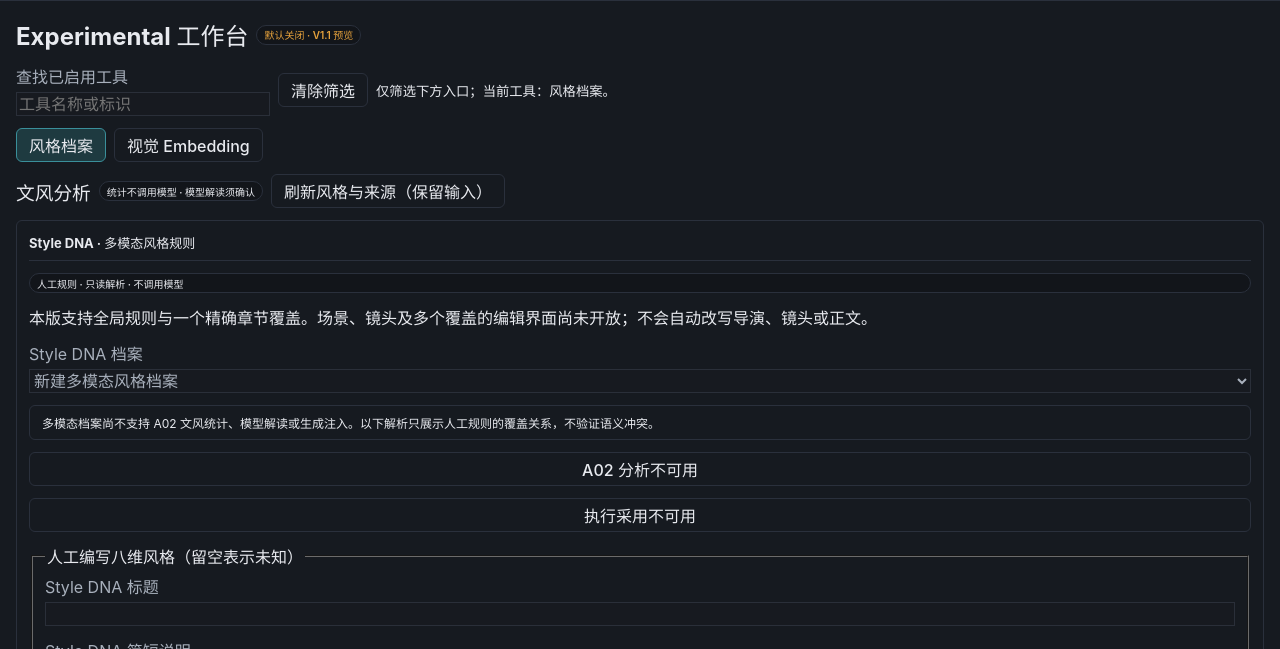
Test: tab switching asks, cancellation preserves fields, filtering never asks
The image size is (1280, 649).
Type "PRIVATE_LOCAL" into the field labelled "Style DNA 标题".
click(640, 614); type("PRIVATE_LOCAL")  # box [45,602,1235,626]
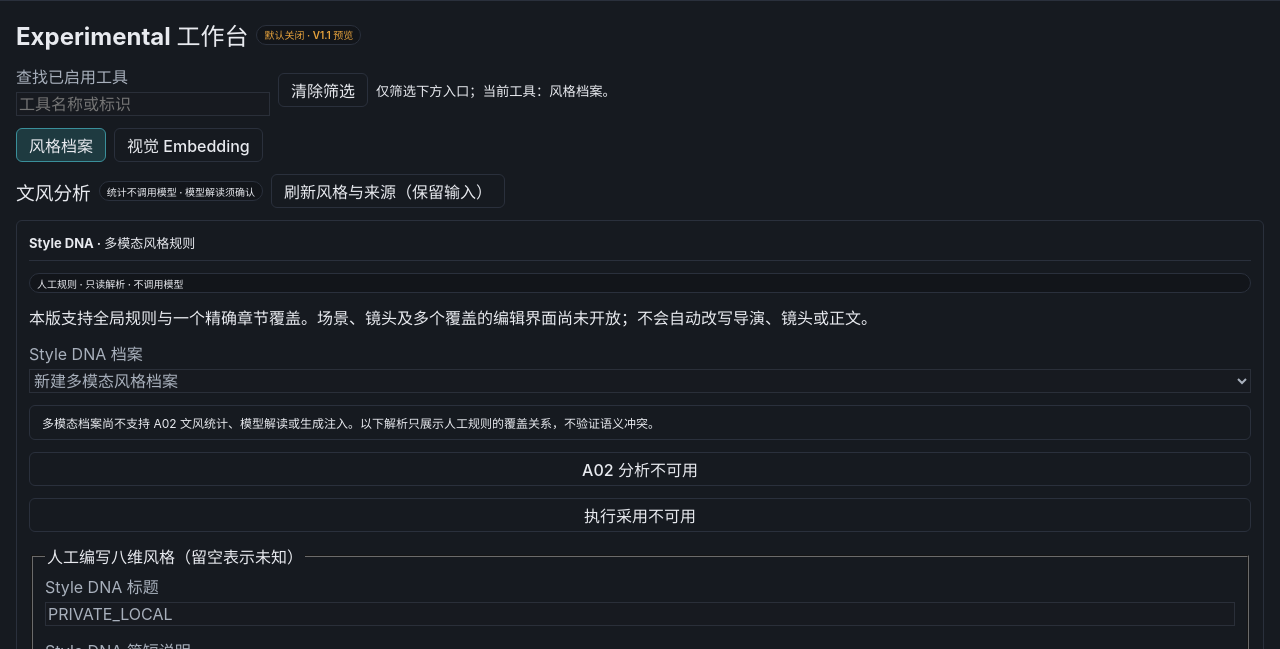
Type "Embedding" into the search field.
click(143, 104); type("Embedding")  # box [16,92,270,116]
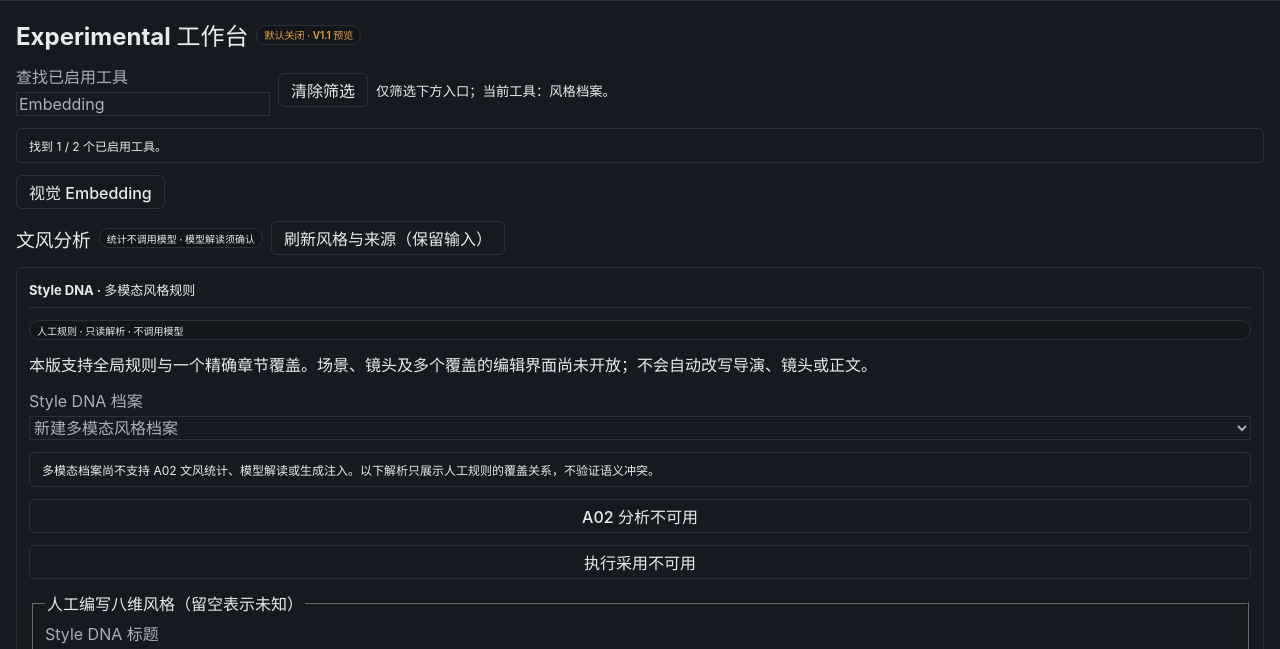
Click the button "视觉 Embedding".
click(90, 192)  # box [16,175,165,209]
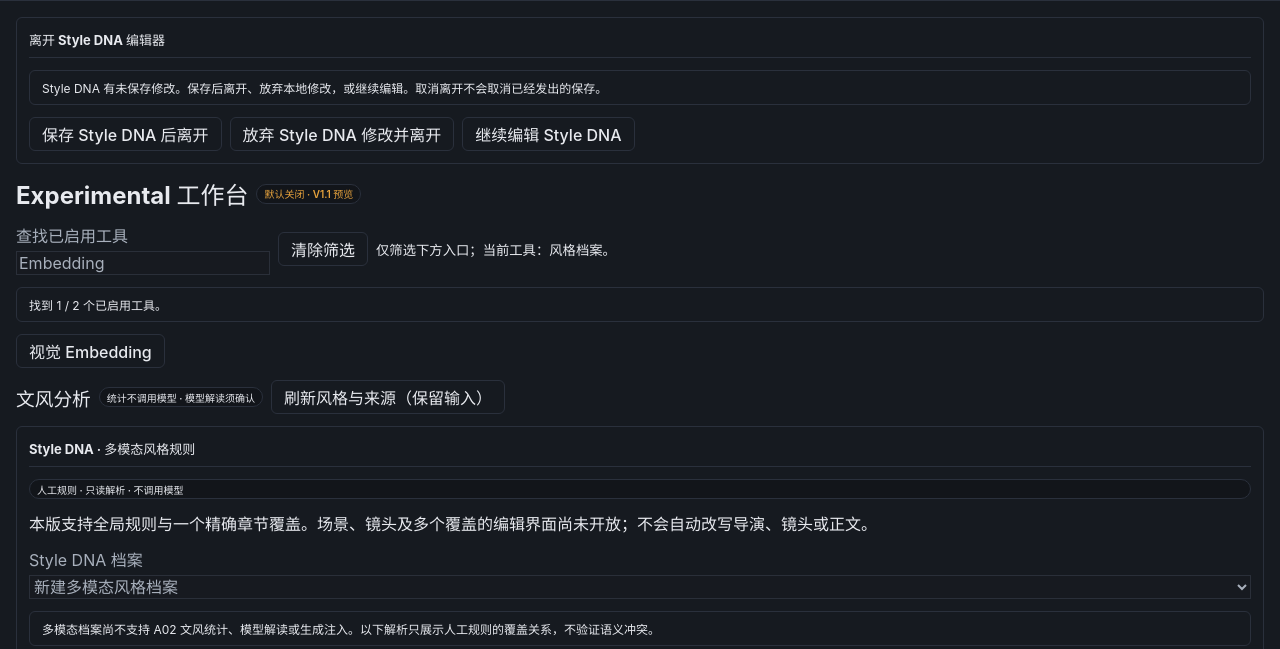
Click the button "继续编辑 Style DNA".
click(548, 134)  # box [462,117,634,151]
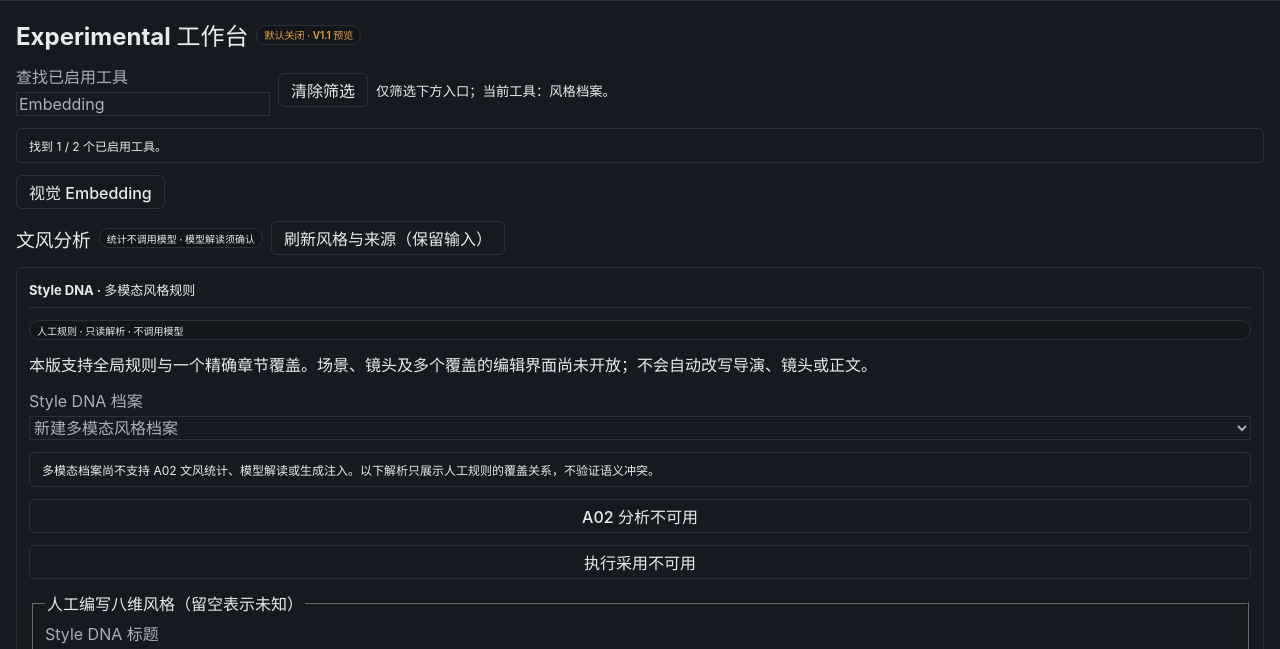
Click the button "视觉 Embedding".
click(90, 192)  # box [16,175,165,209]
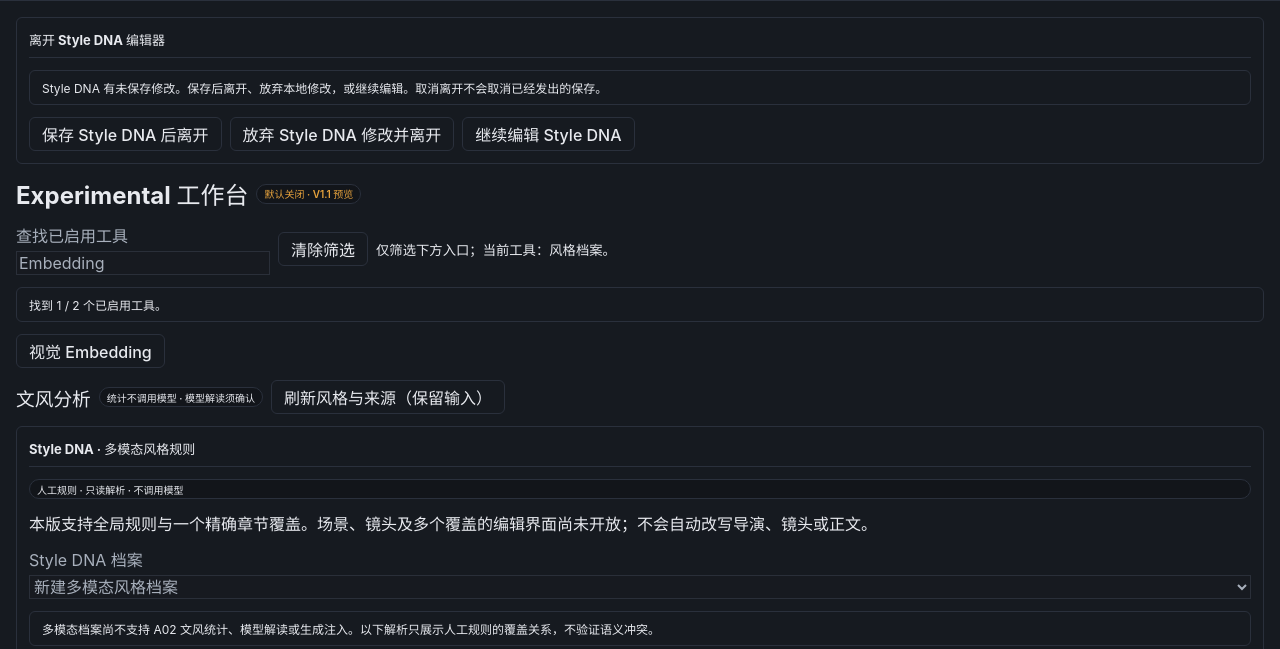
Click the button "放弃 Style DNA 修改并离开".
click(342, 134)  # box [230,117,454,151]
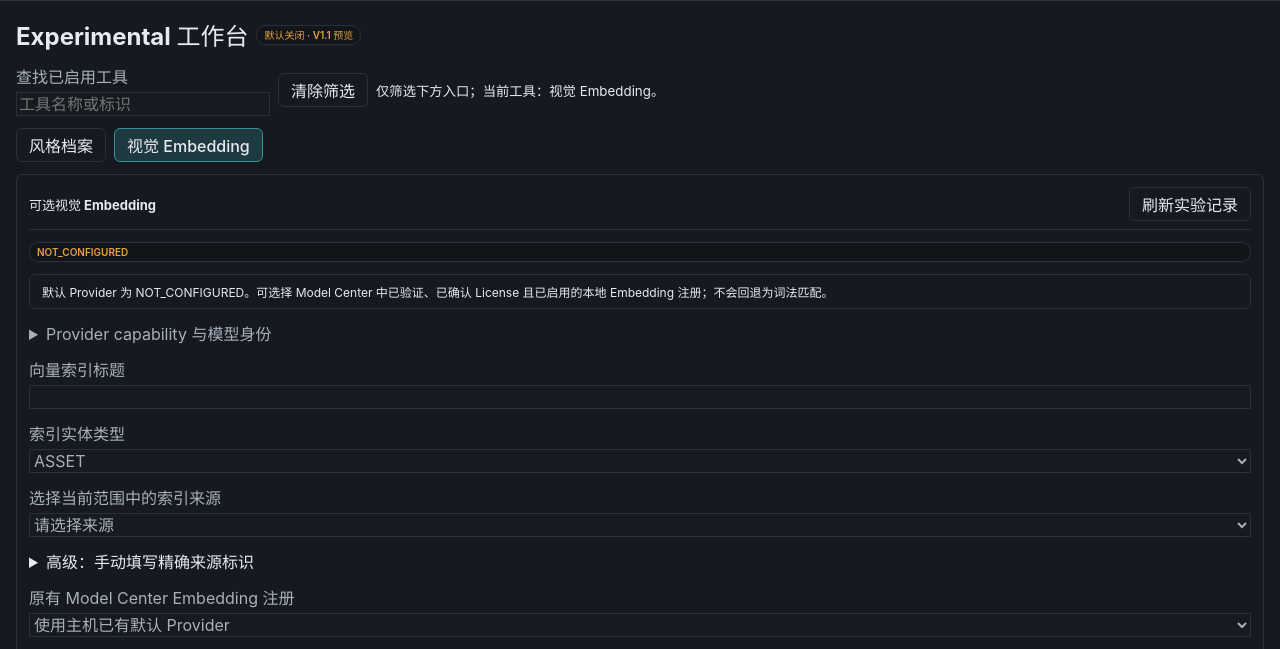
Expected: the field showing "PRIVATE_LOCAL" is not shown
Now the text "NOT_CONFIGURED" is shown, box [29,242,1251,262]
